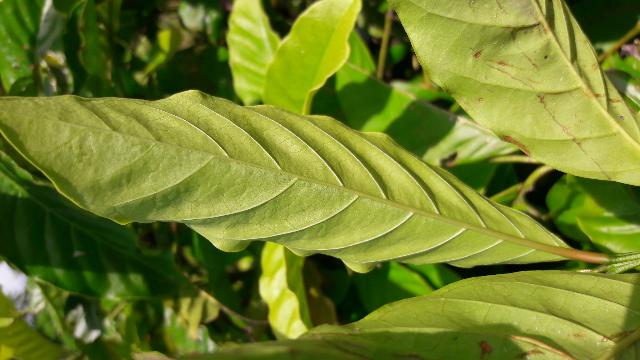healthy: (0, 87, 584, 270)
